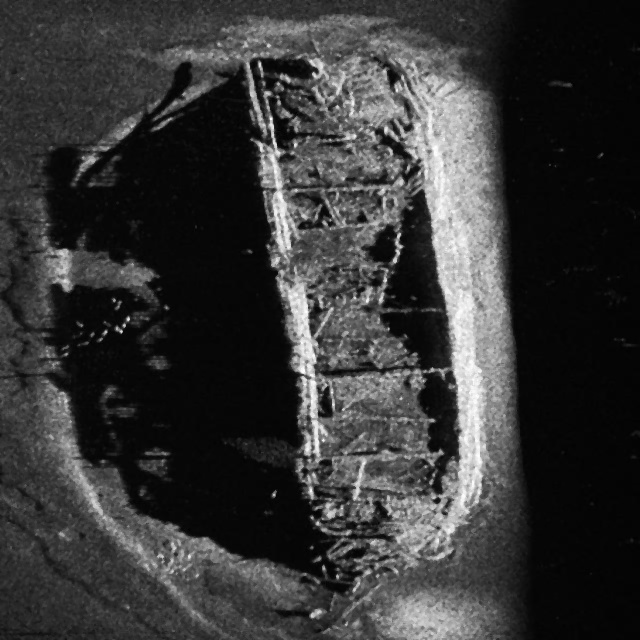Ship: (217, 41, 499, 635)
